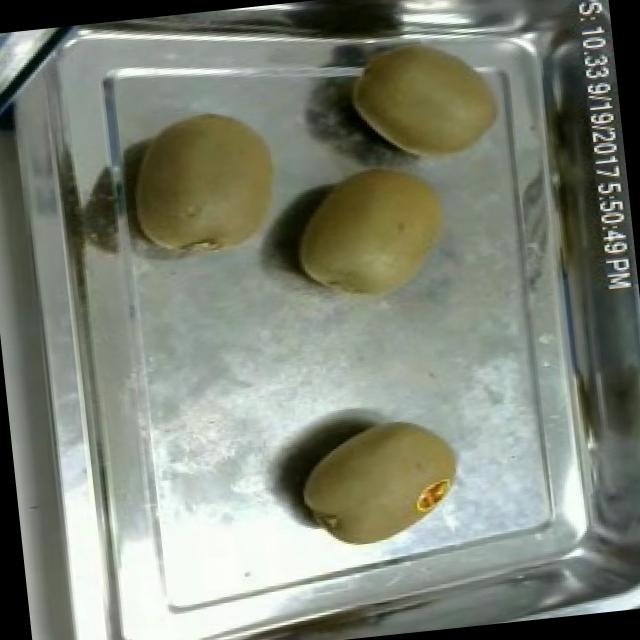Fruit: (119, 97, 299, 273), (284, 404, 476, 562), (279, 150, 462, 312), (335, 24, 513, 178)
